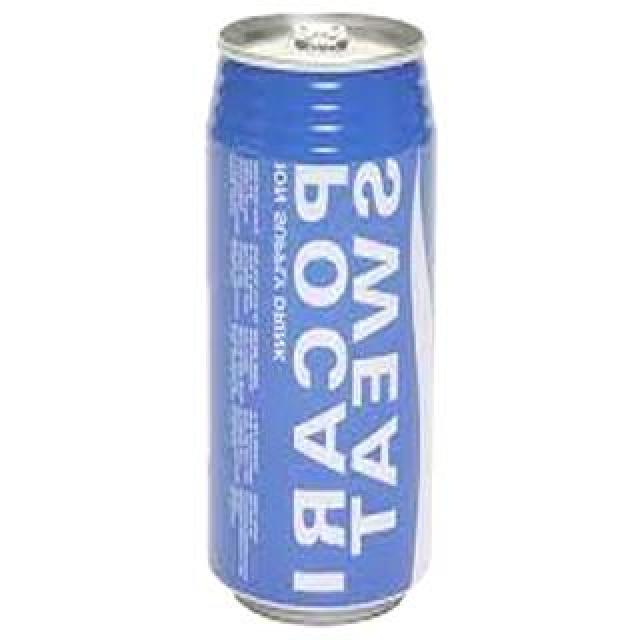Can: (195, 2, 443, 626)
